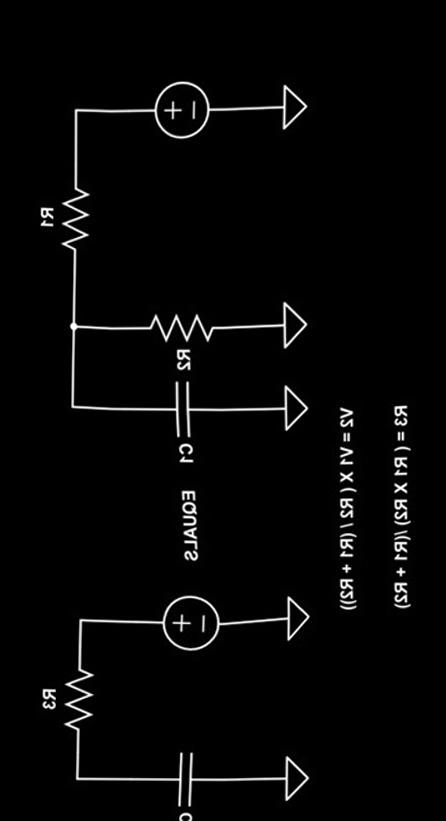Battery: (140, 569, 238, 675), (135, 51, 222, 162)
